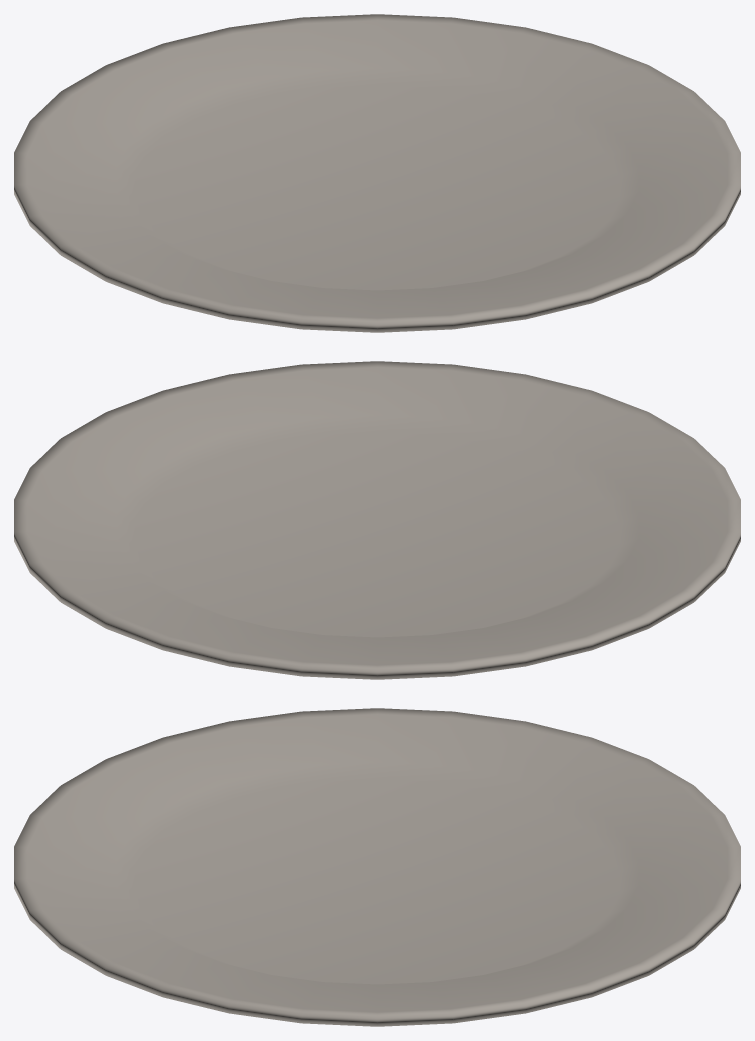
Rendered from pi_dish01_white_emi0.gltf.
3 renders of one model, top to bottom at view 1: azimuth 30°, elevation 25°; view 2: azimuth 150°, elevation 25°; view 3: azimuth 270°, elevation 25°, orthographic.
Visible parts, largest first — view 1: pi_dish01_white_emi0_mesh_shape:pi_dish01_white_emi0_mat; view 2: pi_dish01_white_emi0_mesh_shape:pi_dish01_white_emi0_mat; view 3: pi_dish01_white_emi0_mesh_shape:pi_dish01_white_emi0_mat.
Part boxes in pixels (x1,y1,x2,y2): pi_dish01_white_emi0_mesh_shape:pi_dish01_white_emi0_mat: [14, 14, 740, 332]; pi_dish01_white_emi0_mesh_shape:pi_dish01_white_emi0_mat: [14, 361, 740, 679]; pi_dish01_white_emi0_mesh_shape:pi_dish01_white_emi0_mat: [14, 708, 740, 1026].
Bounding box in the file's own units: 0.3 × 0.017 × 0.2984.
Materials: 1 (1 with a texture image).
